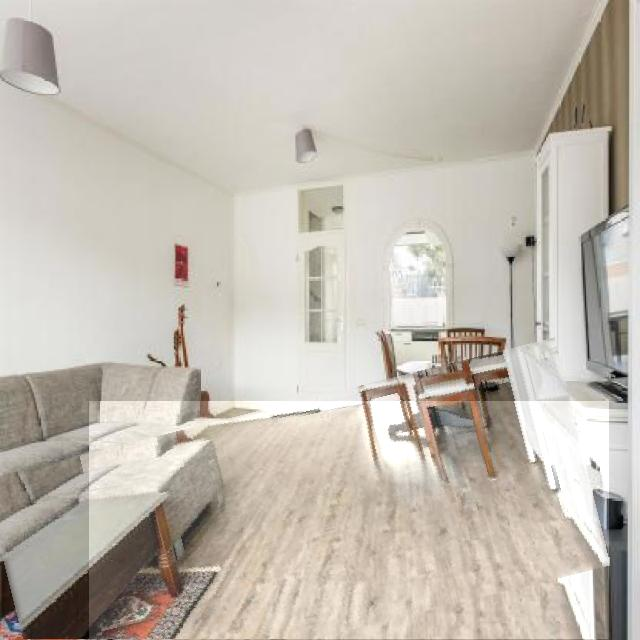floor: (90, 401, 609, 640)
